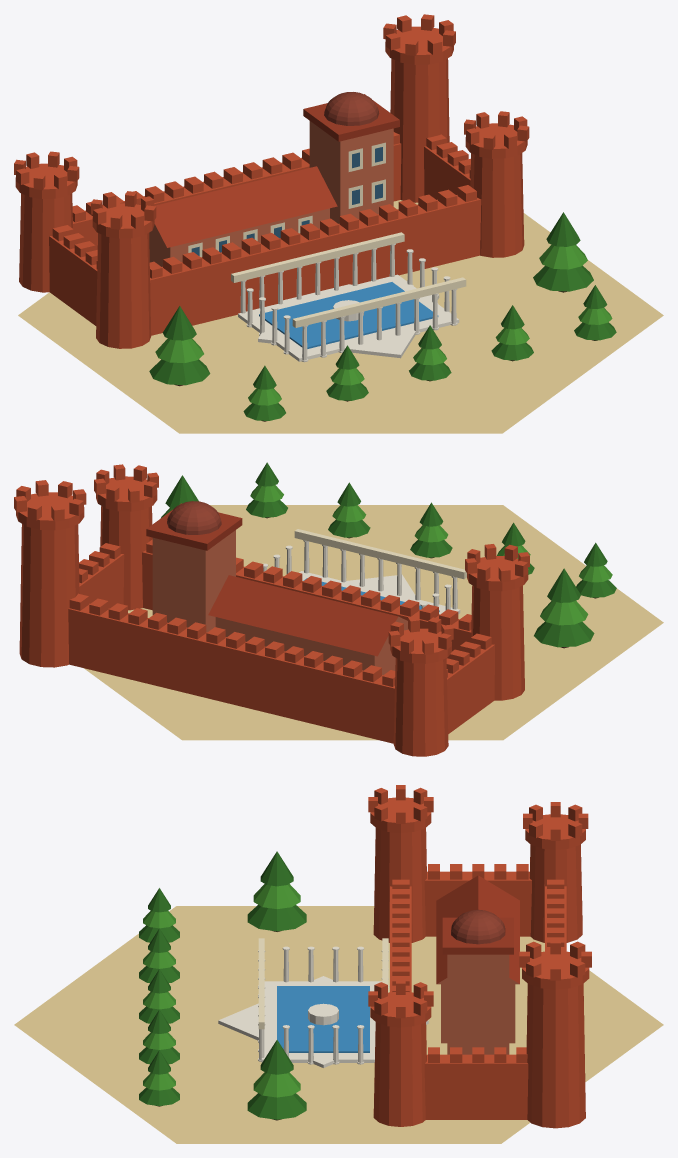
Rendered from wonder_alhambra.fbx.
3 views of the same model, one above another, from view 1: azimuth 30°, elevation 25°; view 2: azimuth 150°, elevation 25°; view 3: azimuth 270°, elevation 25° (orthographic).
Parts seen in each view (by area): view 1: wonder_alhambra; view 2: wonder_alhambra; view 3: wonder_alhambra.
Boxes of the visible parts, left/top/right/bottom form: wonder_alhambra: left=14, top=14, right=663, bottom=433; wonder_alhambra: left=14, top=462, right=663, bottom=756; wonder_alhambra: left=14, top=785, right=663, bottom=1143.
Bounding box in the file's own units: 182 × 57.9 × 210.
